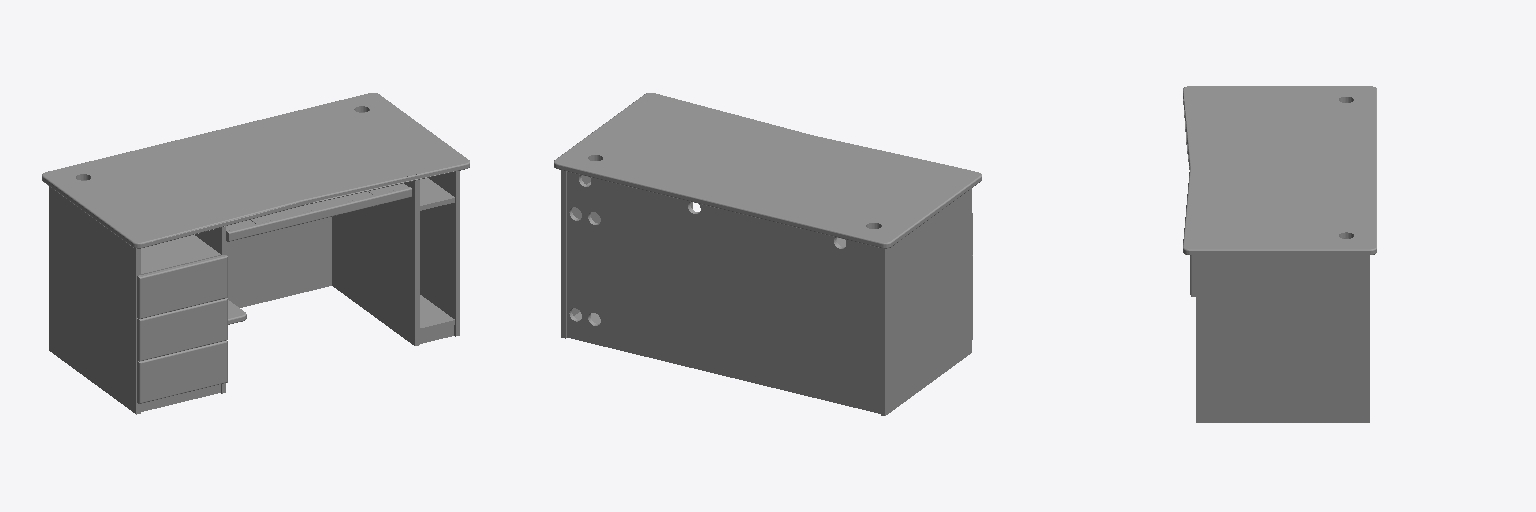
File: desk.obj
The picture shows the model from 3 angles: view 1: azimuth 30°, elevation 25°; view 2: azimuth 150°, elevation 25°; view 3: azimuth 270°, elevation 25°; orthographic projection.
Parts seen in each view (by area): view 1: object13; view 2: object13; view 3: object13.
Boxes of the visible parts, x1=… form: object13: x1=42, y1=93, x2=469, y2=414; object13: x1=554, y1=93, x2=981, y2=415; object13: x1=1183, y1=86, x2=1376, y2=422.
Bounding box in the file's own units: 1.38 × 0.6911 × 0.6911.